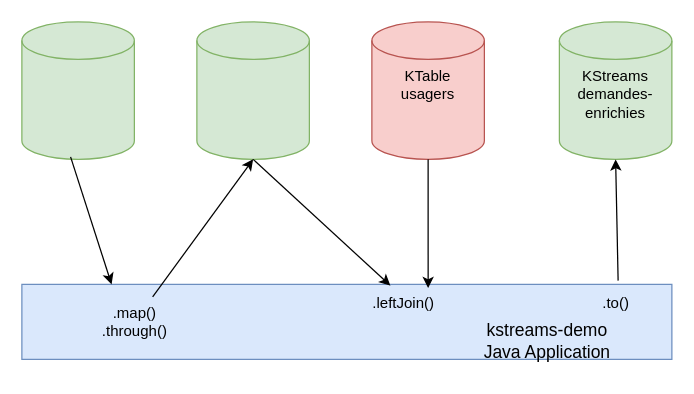
The diagram is 694 pixels wide and 394 high, and some of its shapes have lost their labels. The centre of each missing label's shape, as x and y in pixels:
"KStreams demandes" belongs at (77,90).
"KStreams demandes-by-usager-id" belongs at (252,90).
